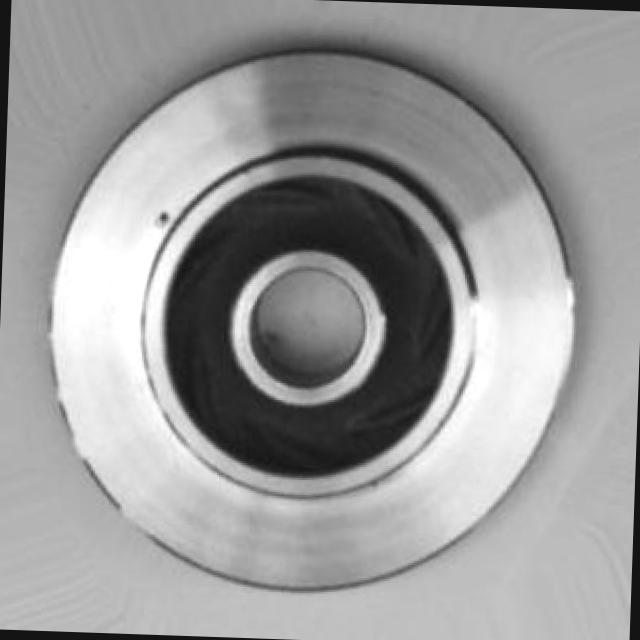Defect: (150, 203, 180, 232)
